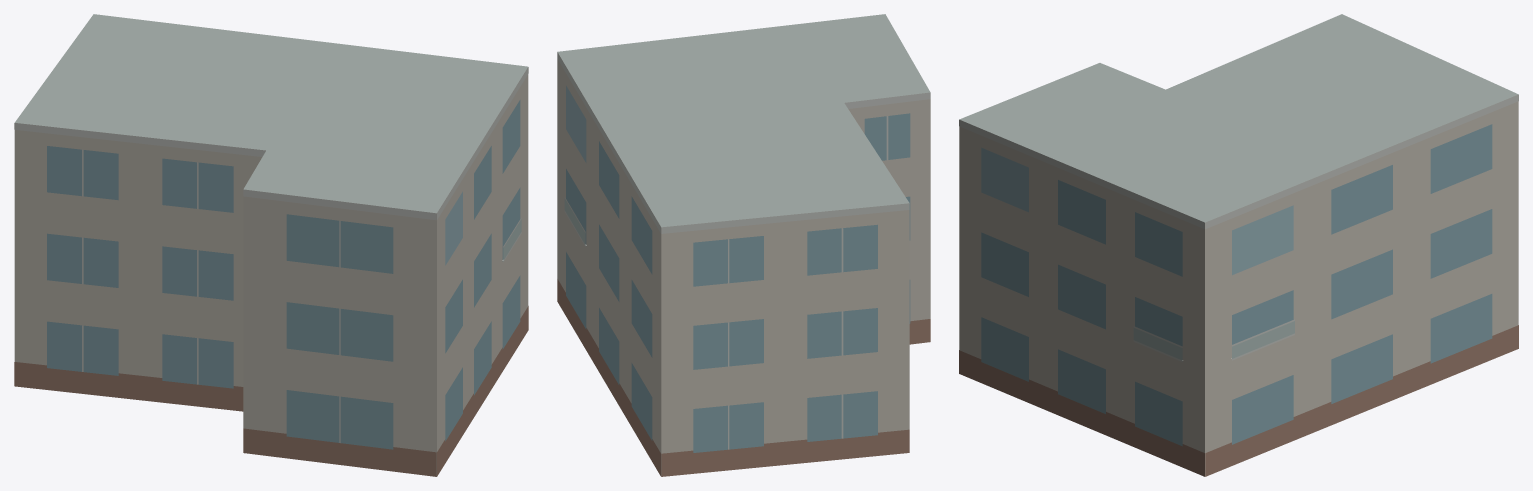
File: survey-upis-32718304.glb
3 renders of one model, left to right at view 1: azimuth 30°, elevation 25°; view 2: azimuth 150°, elevation 25°; view 3: azimuth 270°, elevation 25°, orthographic. The views are drawn at different scales.
Visible parts, largest first — view 1: survey-upis-32718304.tmp; view 2: survey-upis-32718304.tmp; view 3: survey-upis-32718304.tmp.
Boxes of the visible parts, x1,y1,x2,y2 form: survey-upis-32718304.tmp: (14, 14, 528, 476); survey-upis-32718304.tmp: (557, 14, 930, 476); survey-upis-32718304.tmp: (959, 14, 1518, 476).
Bounding box in the file's own units: 16.1 × 9.15 × 18.26.
